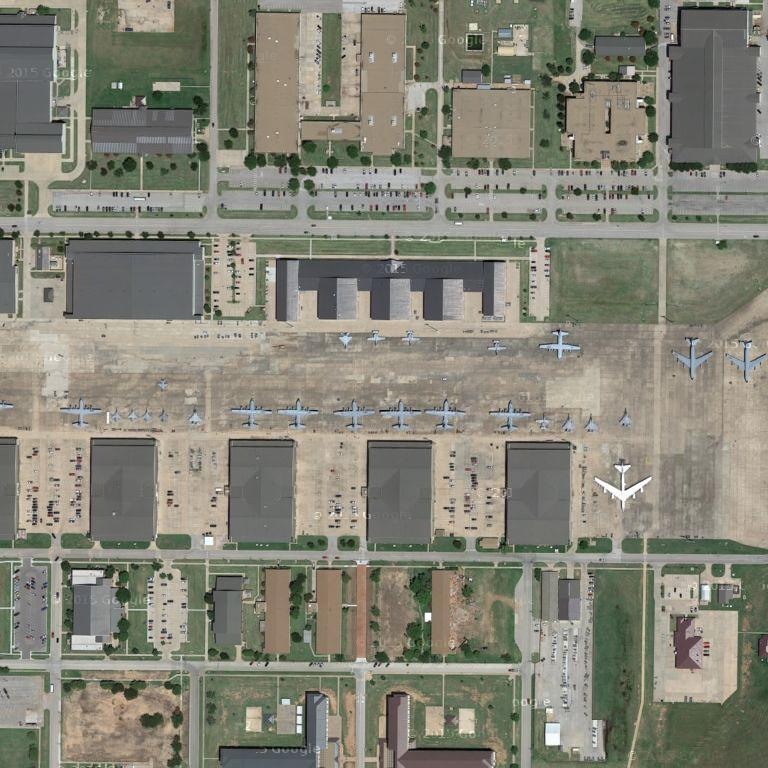B-52: (593, 458, 656, 511)
C-130: (226, 396, 277, 433), (55, 394, 106, 430), (536, 328, 590, 362), (275, 395, 325, 431), (424, 396, 471, 434), (374, 399, 428, 432), (332, 399, 377, 433), (486, 399, 534, 430)
KC-135: (723, 334, 768, 391), (671, 331, 719, 381)
